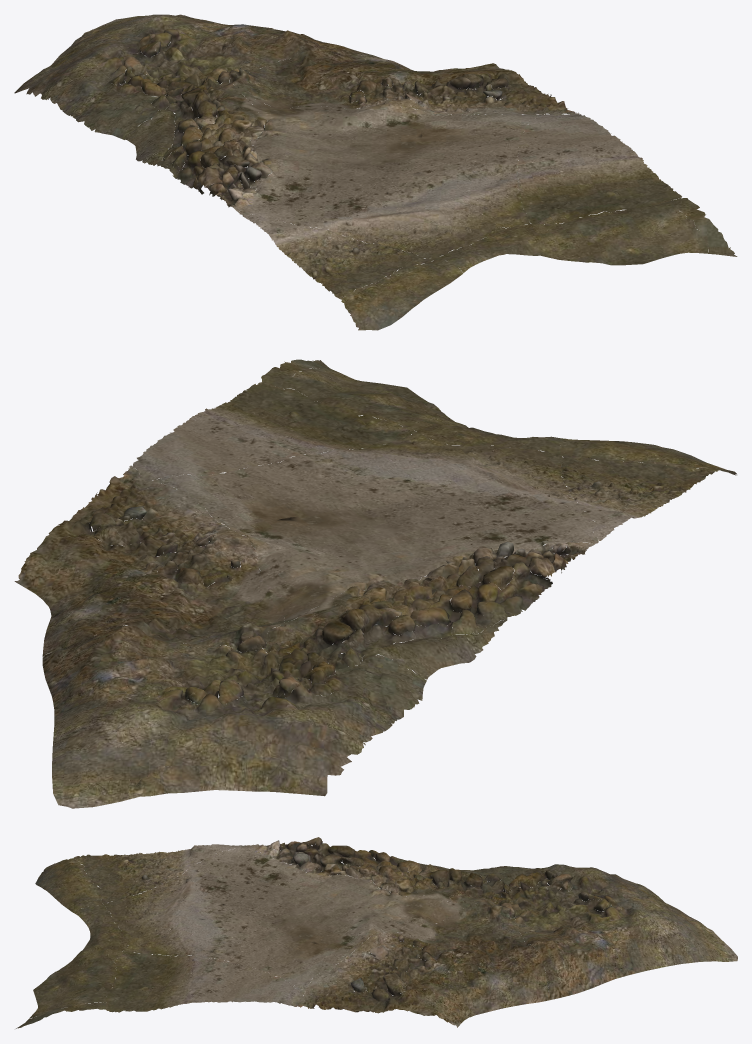
Rendered from coast-cropped.glb.
3 renders of one model, top to bottom at view 1: azimuth 30°, elevation 25°; view 2: azimuth 150°, elevation 25°; view 3: azimuth 270°, elevation 25°, orthographic. The views are drawn at different scales.
Visible parts, largest first — view 1: coast_rocks_01; view 2: coast_rocks_01; view 3: coast_rocks_01.
Boxes of the visible parts, x1,y1,x2,y2 form: coast_rocks_01: [14, 14, 737, 330]; coast_rocks_01: [14, 359, 736, 808]; coast_rocks_01: [16, 837, 737, 1028].
Bounding box in the file's own units: 19.02 × 3.3 × 37.55.
1 material, 1 textured.
